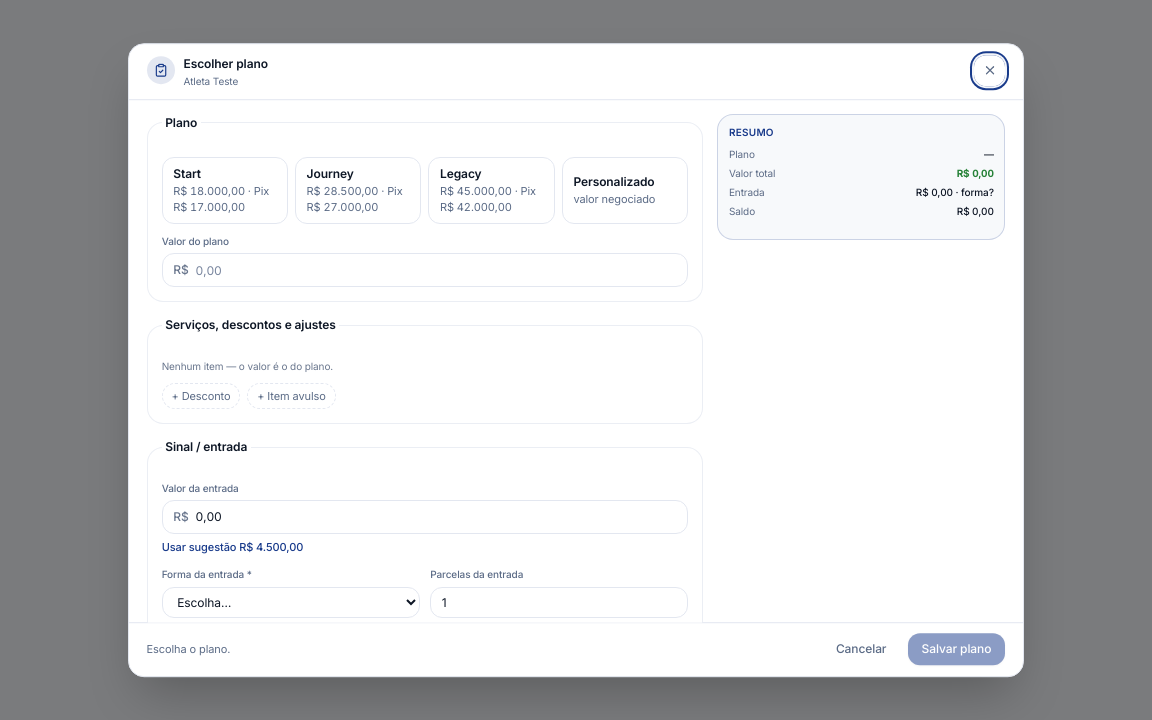
Test: Criar contrato pelo modal — botão, motivo e envio (T6) › sem a forma da entrada e a do saldo o botão fica desabilitado e explica o motivo
Expected: the button "Salvar plano" is disabled, [908,634,1005,665]
Step 1. Click the radio button labelled "Journey R$ 28.500,00 · Pix R$ 27.000,00" → [358, 190], box [295,157,422,224]
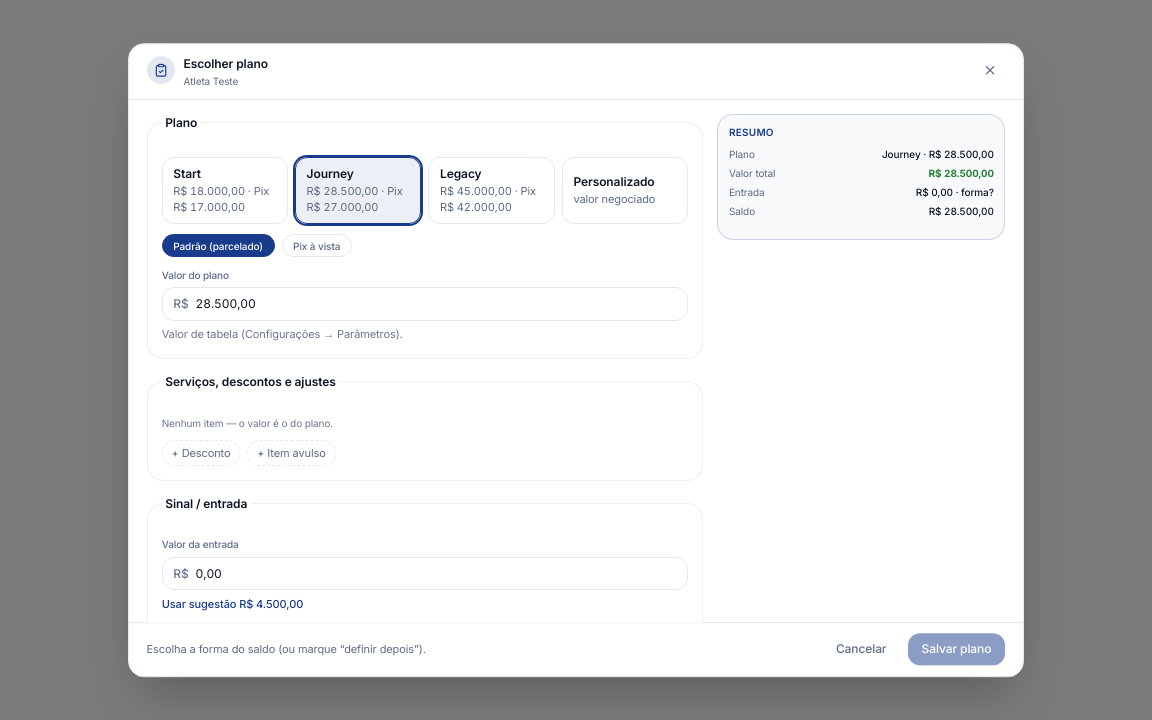
Step 2. Click the field labelled "Valor da entrada" → [438, 574], box [189,558,687,590]
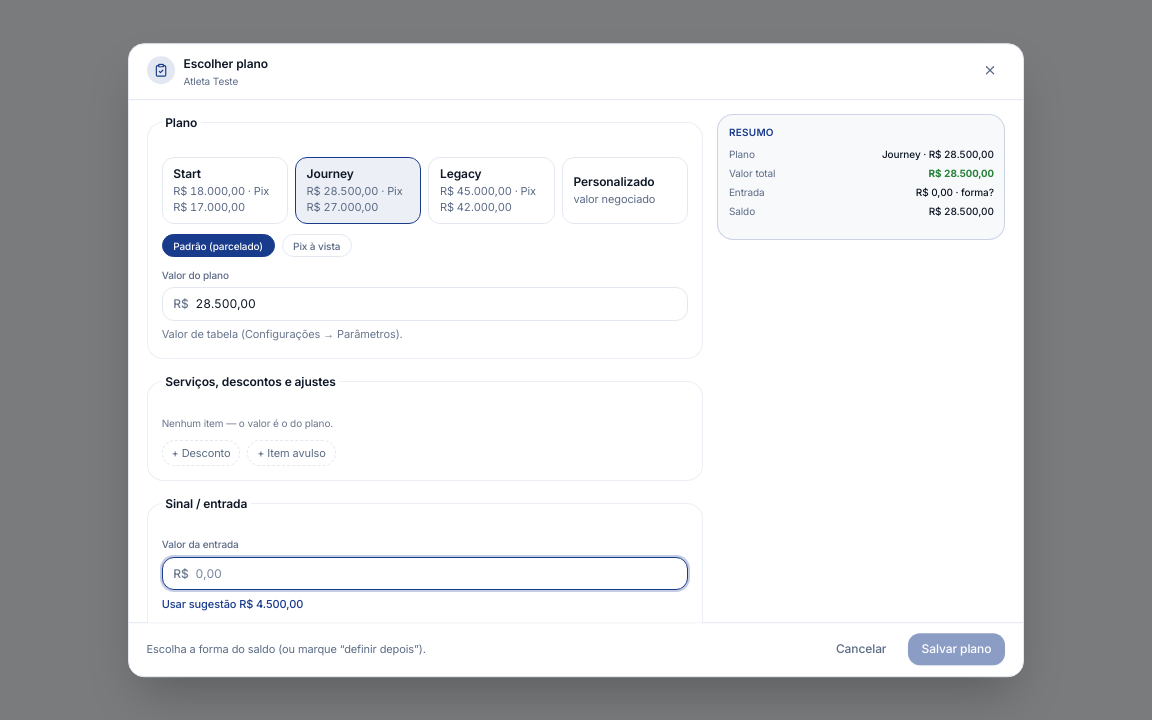
Step 3. Type keys "7800"
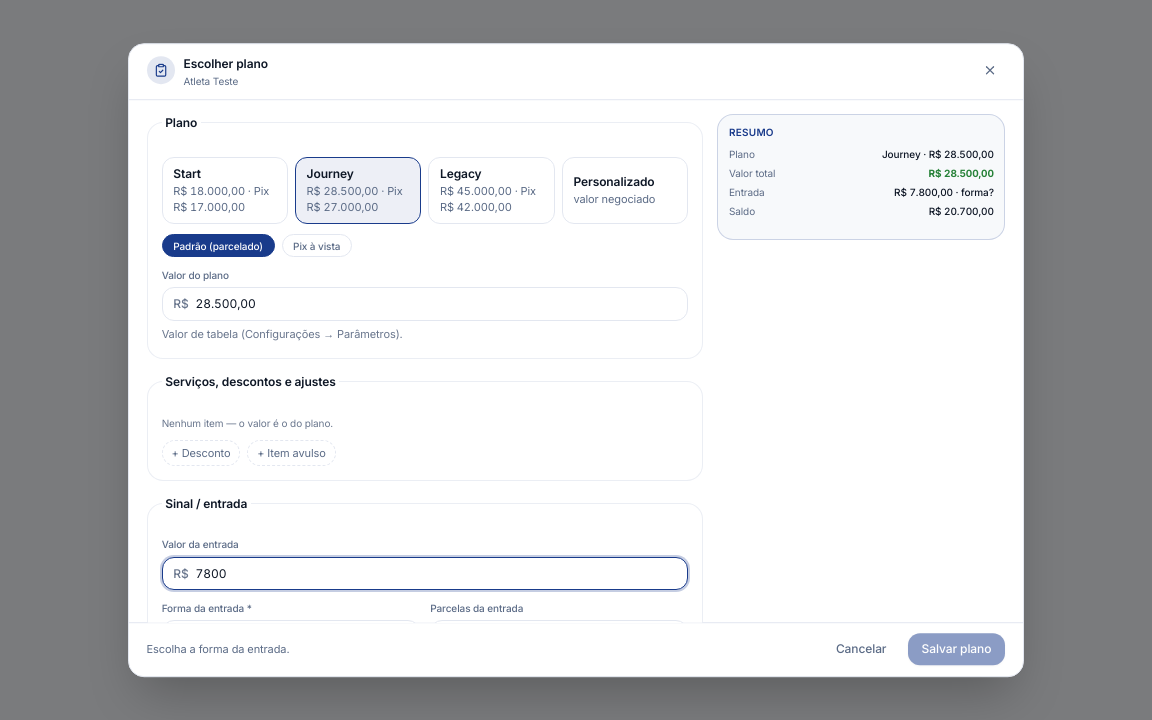
Step 4. Press Tab
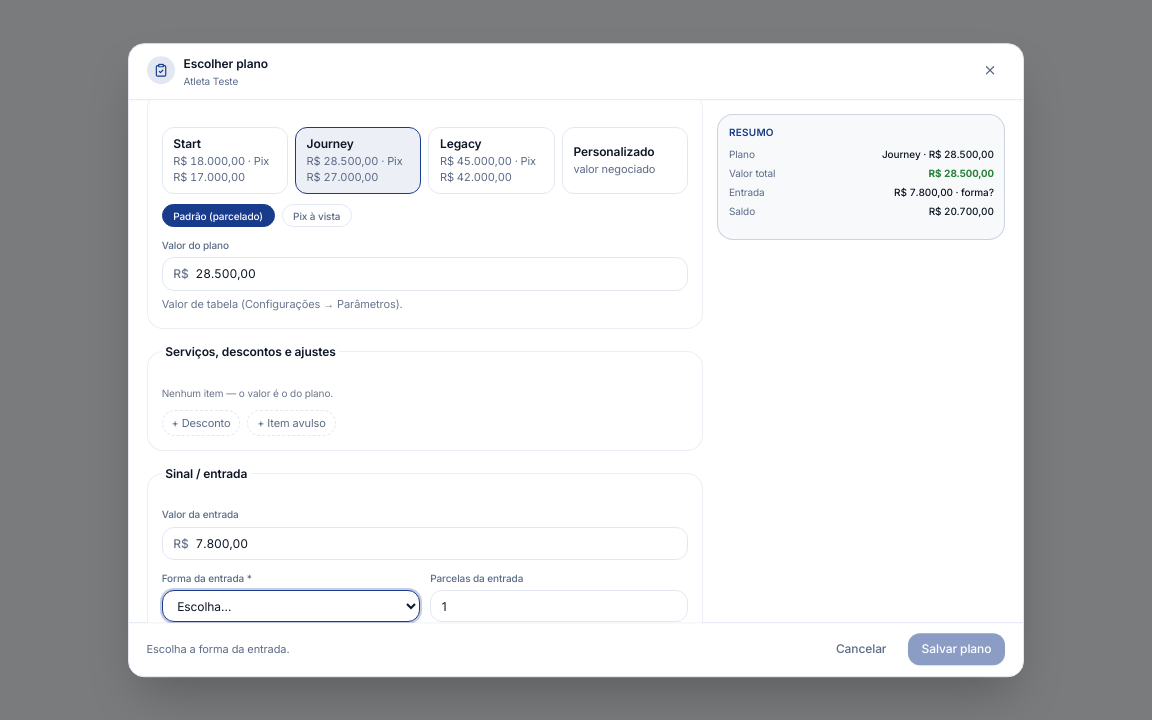
Expected: the button "Salvar plano" is disabled, [908,634,1005,665]
Result: the text "Escolha a forma da entrada." is shown at [147,641,290,658]
Step 5. Select "Pix" in the dropdown labelled "Forma da entrada *" → [291, 606], box [162,590,420,622]
(page scrolled)
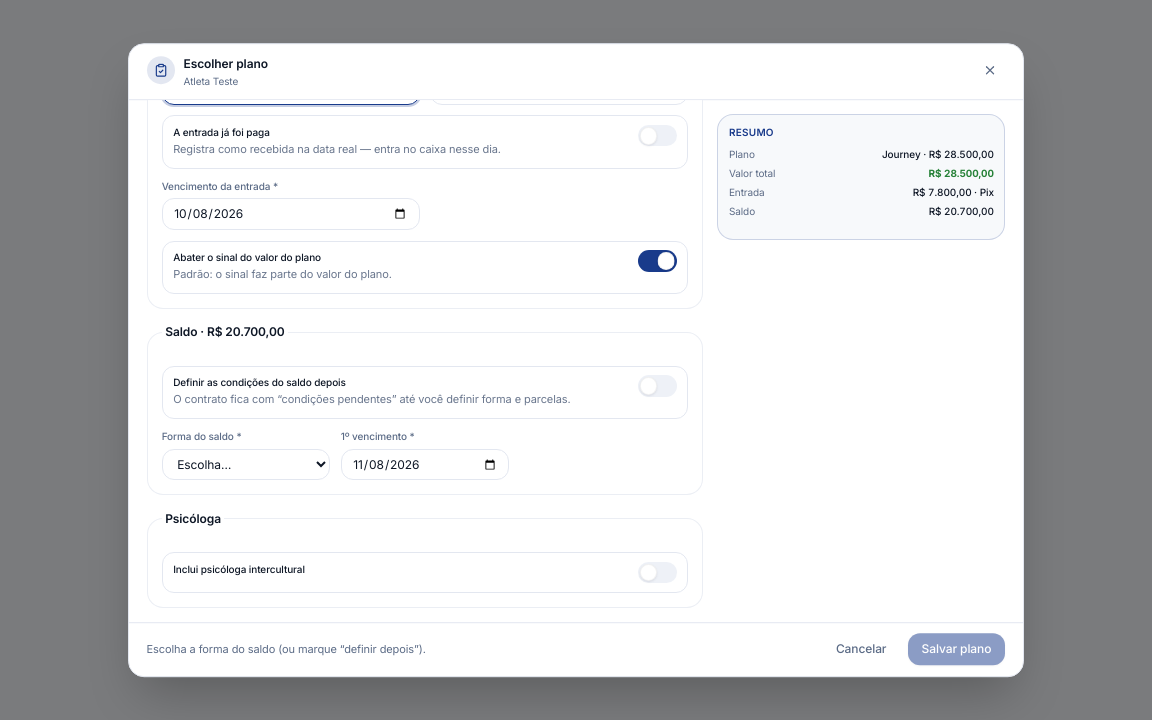
Expected: the button "Salvar plano" is disabled, [908,634,1005,665]
Step 6. Select "Pix à vista" in the dropdown labelled "Forma do saldo *" → [246, 465], box [162,449,330,481]
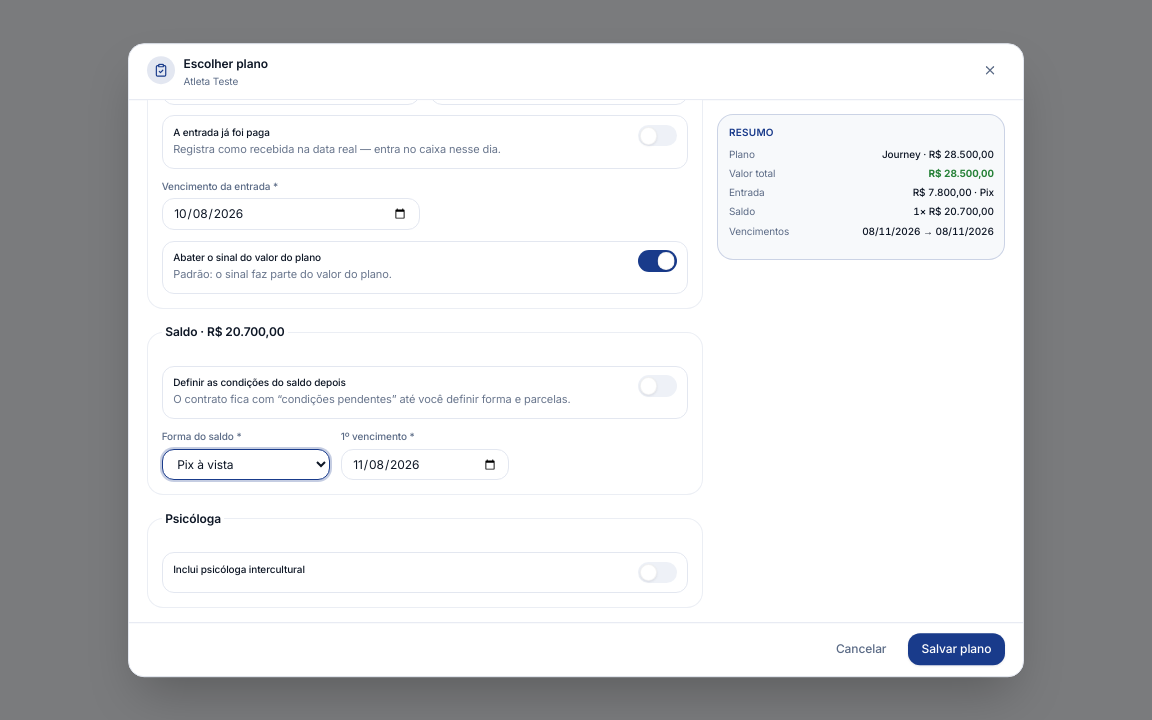
Result: the button "Salvar plano" is enabled at [908,634,1005,665]
